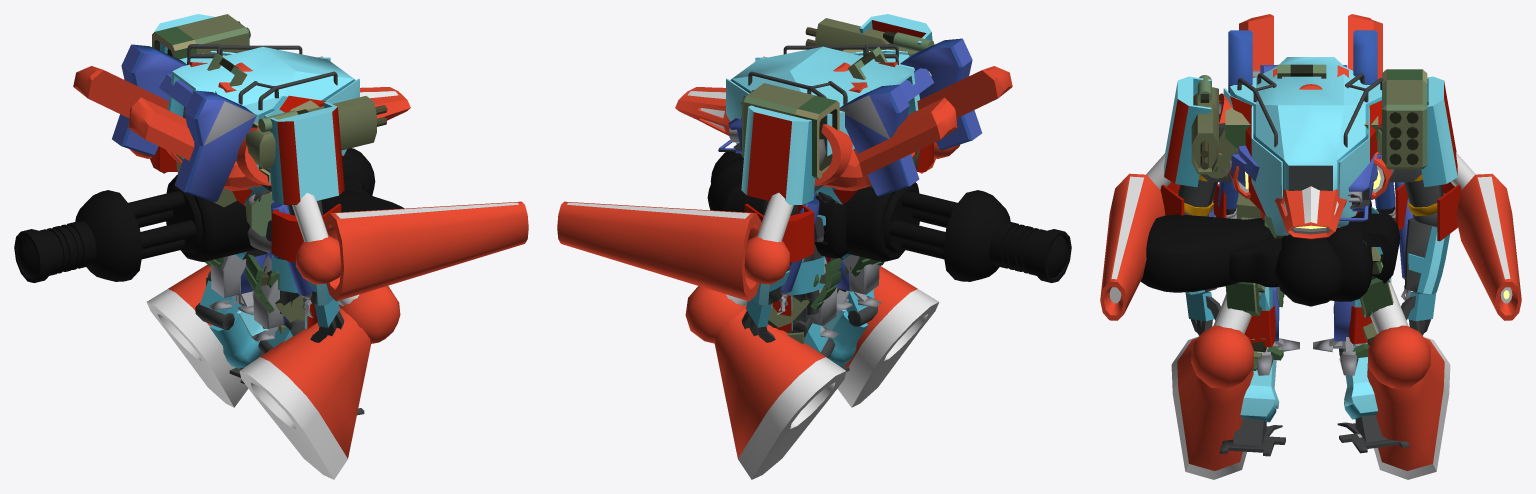
The model's file is toys_vari.fbx.
3 views of the same model, side by side, from view 1: azimuth 30°, elevation 25°; view 2: azimuth 150°, elevation 25°; view 3: azimuth 270°, elevation 25° (orthographic).
Visible parts, largest first — view 1: mecha, omino3_azzu, pistola, blu_omino, omino4_green; view 2: mecha, omino3_azzu, pistola, blu_omino, omino4_green; view 3: mecha, omino3_azzu, pistola, omino4_green, blu_omino.
Boxes of the visible parts, x1=… form: mecha: x1=73, y1=56, x2=528, y2=479; omino3_azzu: x1=152, y1=14, x2=364, y2=415; pistola: x1=14, y1=148, x2=404, y2=282; blu_omino: x1=112, y1=44, x2=314, y2=341; omino4_green: x1=152, y1=14, x2=386, y2=334; mecha: x1=557, y1=56, x2=1012, y2=479; omino3_azzu: x1=726, y1=14, x2=933, y2=371; pistola: x1=707, y1=152, x2=1071, y2=282; blu_omino: x1=718, y1=38, x2=981, y2=337; omino4_green: x1=741, y1=18, x2=934, y2=344; mecha: x1=1100, y1=14, x2=1521, y2=479; omino3_azzu: x1=1160, y1=57, x2=1461, y2=456; pistola: x1=1140, y1=201, x2=1400, y2=306; omino4_green: x1=1191, y1=64, x2=1427, y2=370; blu_omino: x1=1208, y1=30, x2=1413, y2=375.
Size of the model in its own units: 1029 by 967 by 934.
Materials: 38 (2 with a texture image).
